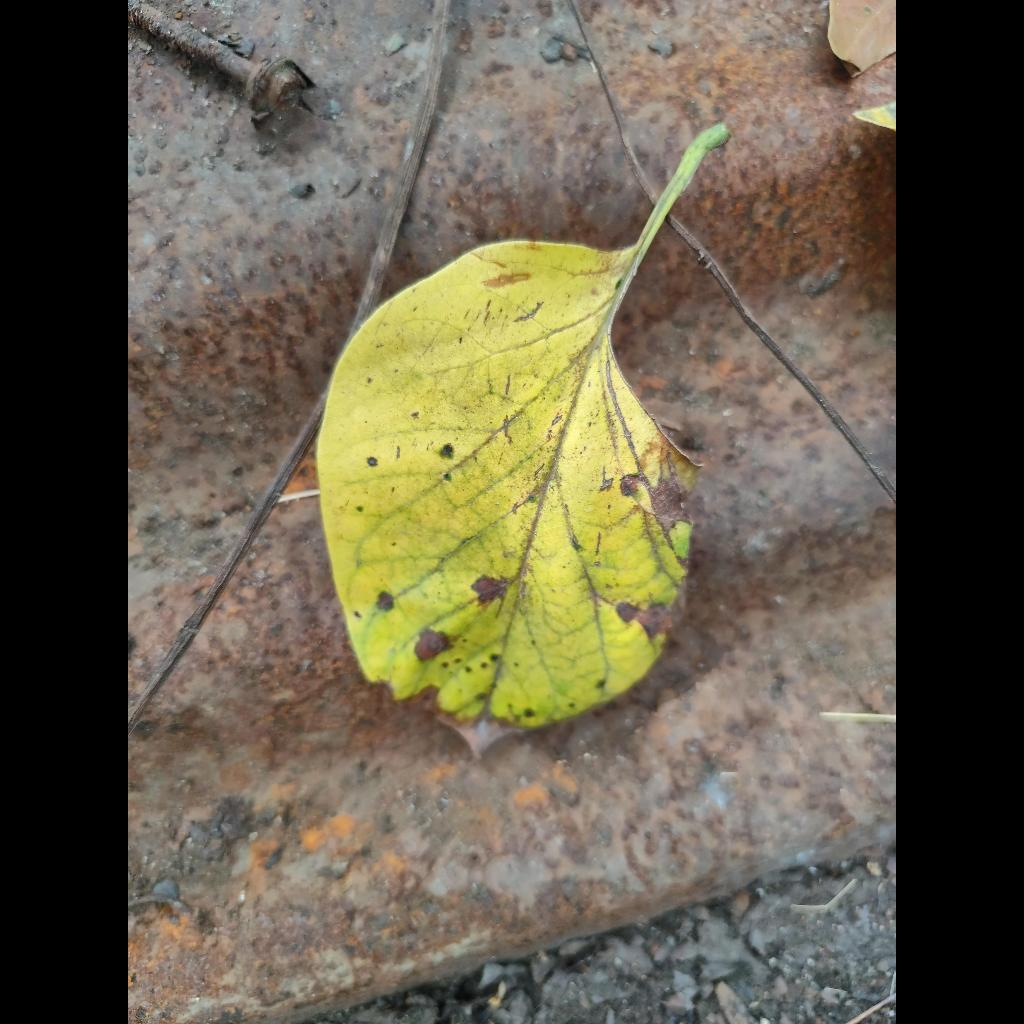nutrient_deficiency: (316, 125, 727, 728)
